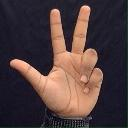hand: (8, 4, 103, 119)
